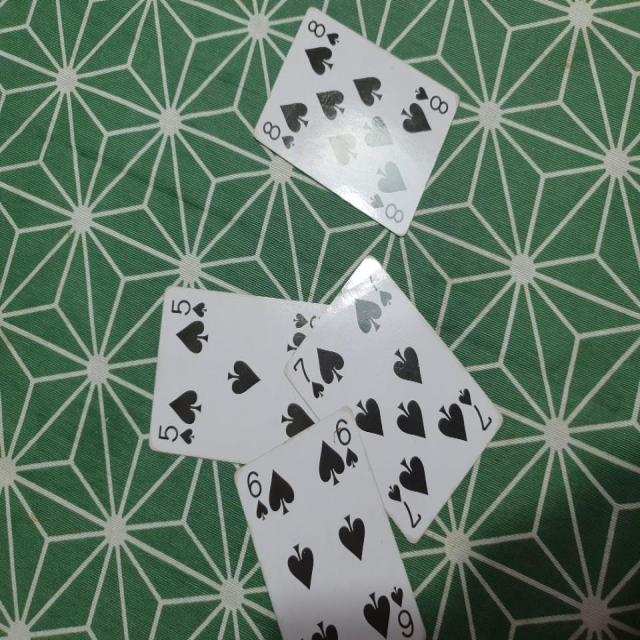5 Spades: (142, 293, 340, 456)
6 Spades: (225, 407, 428, 640)
7 Spades: (283, 260, 518, 542)
8 Spades: (248, 3, 465, 239)
